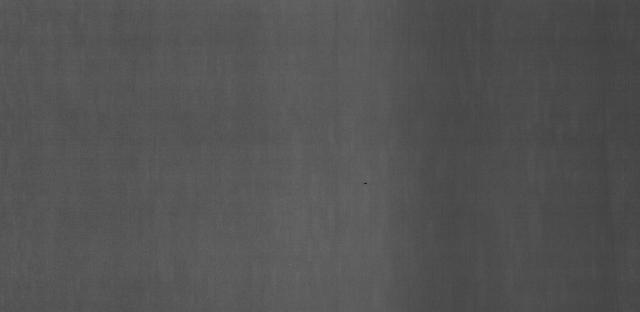inclusion: (354, 175, 379, 193)
